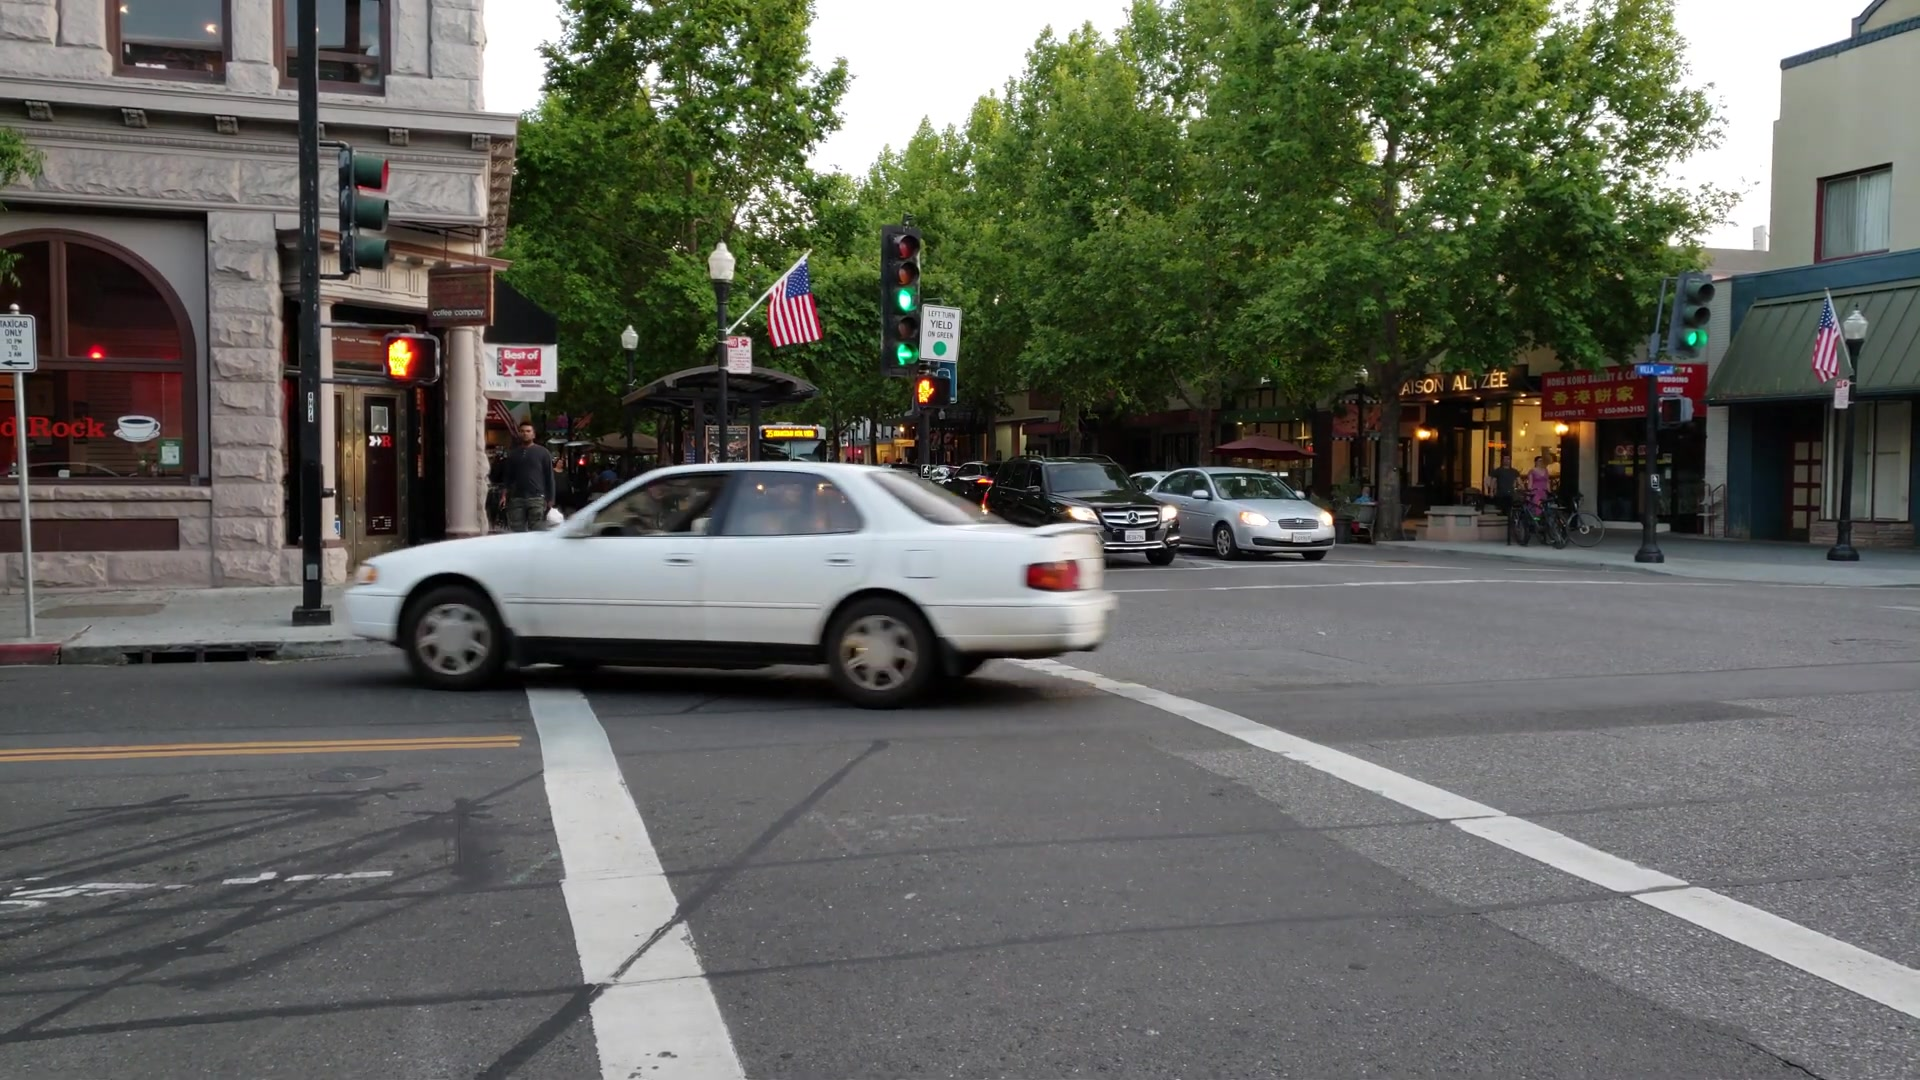vehicle: (344, 460, 1106, 705), (1149, 465, 1335, 567)
